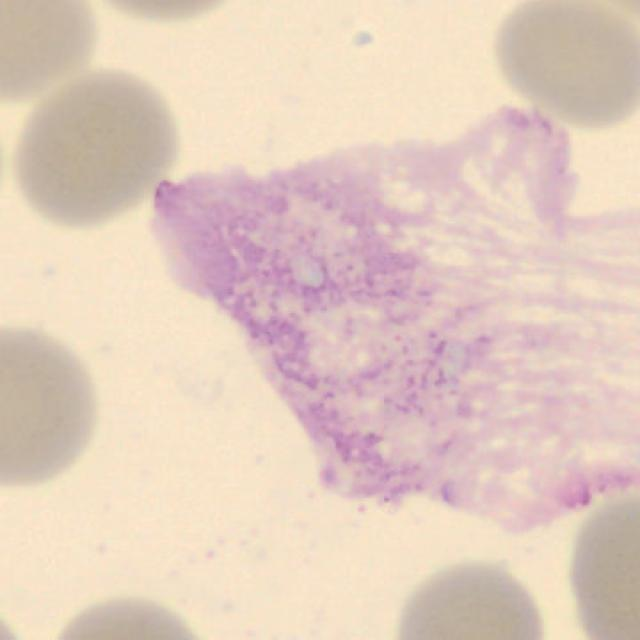Artefato: (153, 107, 640, 534)
